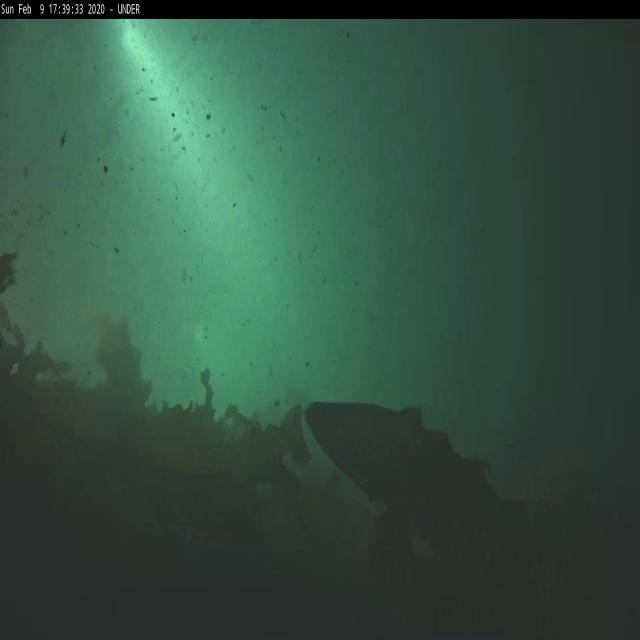fish: (304, 394, 496, 548)
